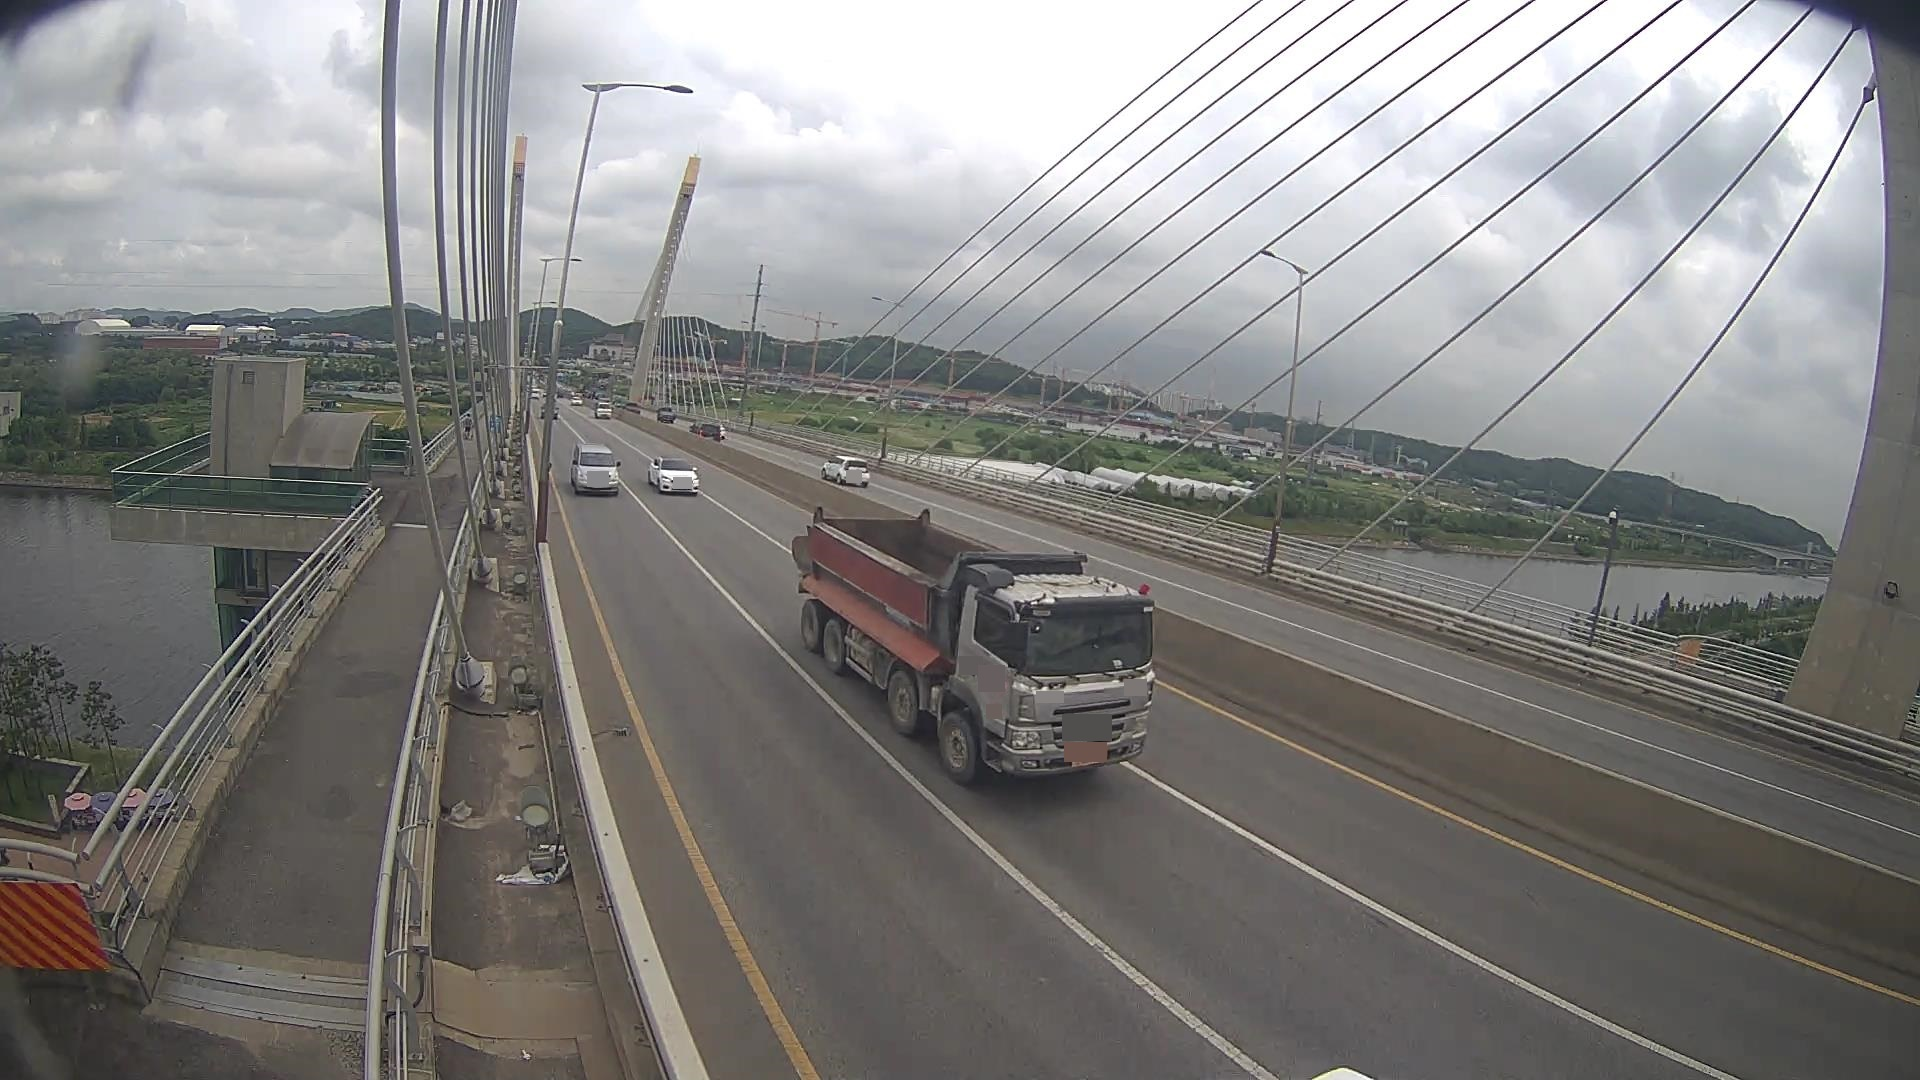정상차량: (790, 506, 1155, 789)
